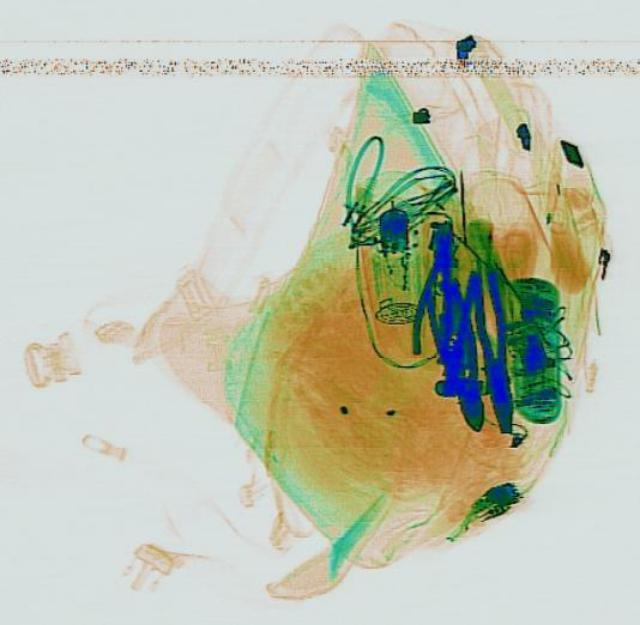Pliers: (420, 277, 496, 434), (408, 220, 472, 355), (466, 268, 518, 433)
